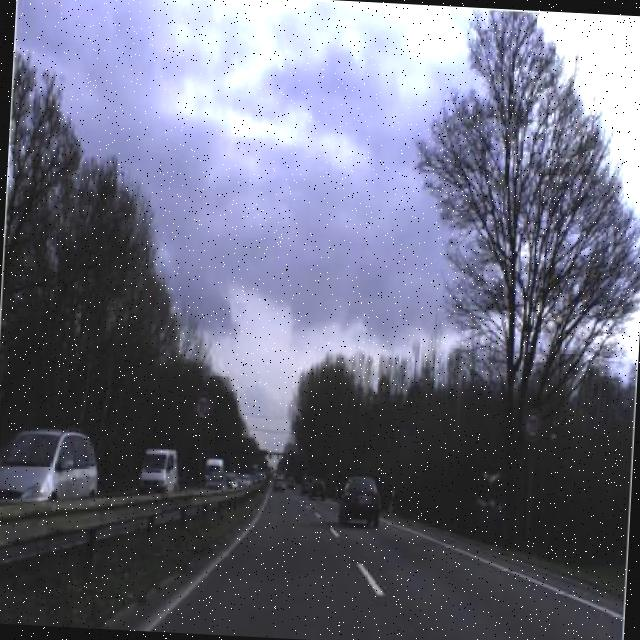Ograniczenie predkosci do 70: (191, 388, 217, 426), (520, 408, 546, 444)
